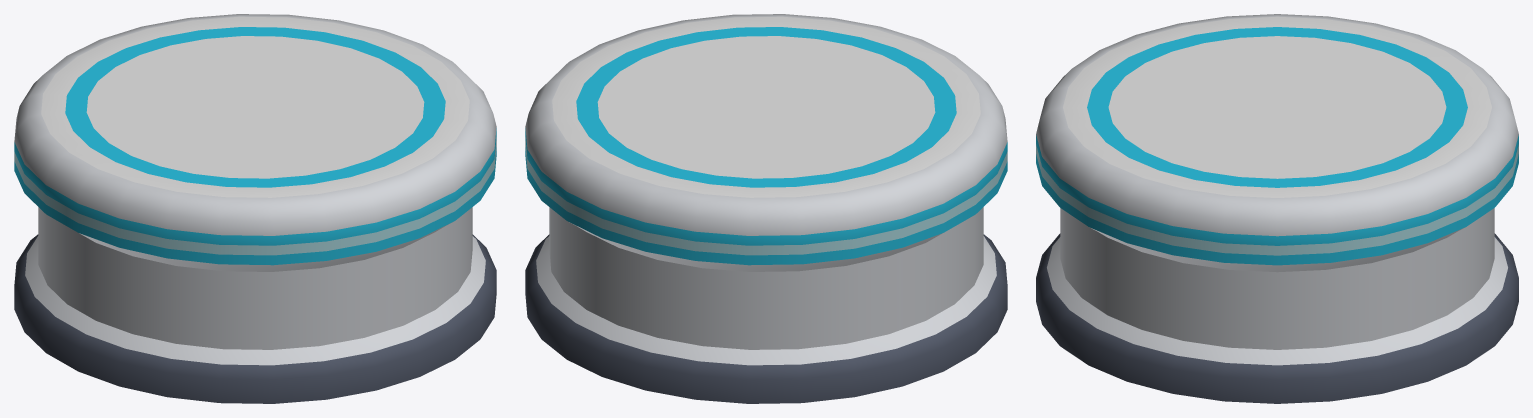
The model's file is mint-podium.glb.
The picture shows the model from 3 angles, left to right: view 1: azimuth 30°, elevation 25°; view 2: azimuth 150°, elevation 25°; view 3: azimuth 270°, elevation 25°; orthographic projection.
Parts seen in each view (by area): view 1: mint-podium; view 2: mint-podium; view 3: mint-podium.
Part boxes in pixels (bbox=[...]): mint-podium: bbox=[14, 14, 496, 403]; mint-podium: bbox=[525, 14, 1007, 403]; mint-podium: bbox=[1036, 14, 1518, 403].
Size of the model in its own units: 0.9 by 0.4 by 0.9.
